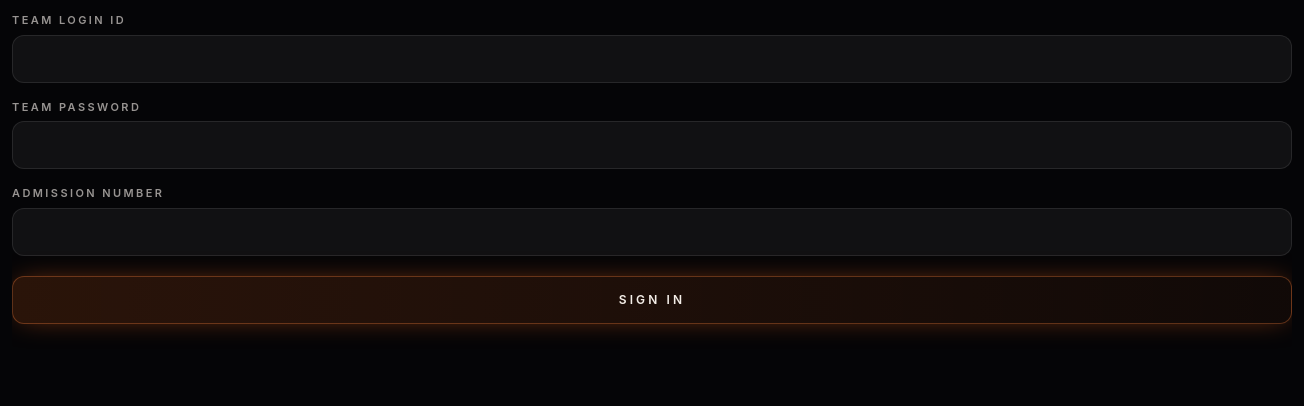
it: <LoginForm role='participant' /> › maps 429 RATE_LIMITED to a safe message
The image size is (1304, 406).
Type " team_a " into the field labelled "Team Login ID".
click(652, 58); type(" team_a ")  # box [12,34,1292,82]
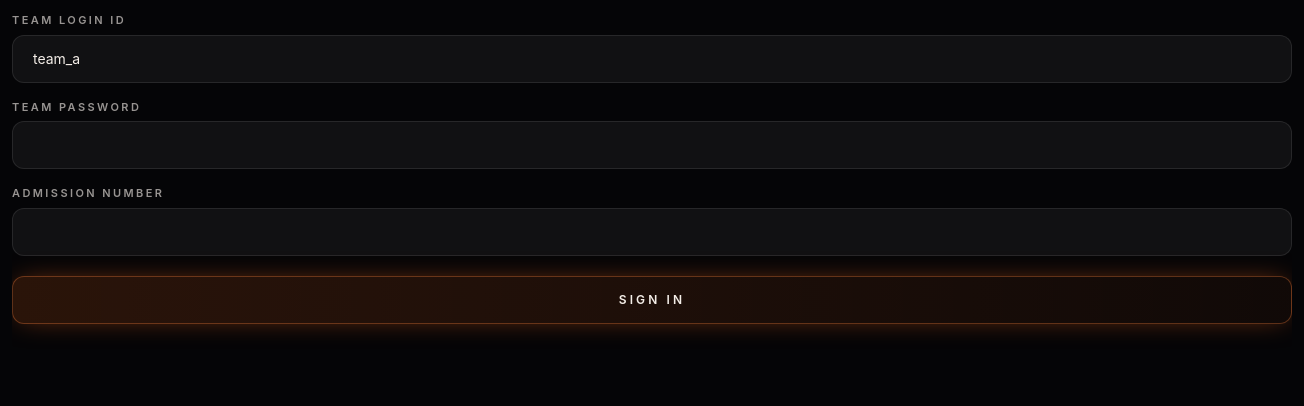
Type "pw-secret" into the password field labelled "Team Password".
click(652, 145); type("pw-secret")  # box [12,121,1292,169]
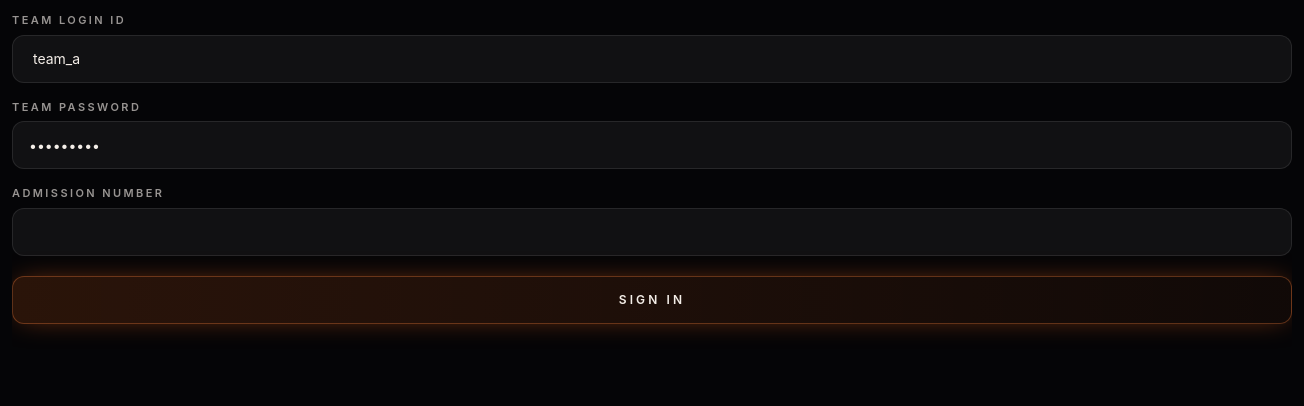
Type " 23je0001 " into the field labelled "Admission Number".
click(652, 232); type(" 23je0001 ")  # box [12,208,1292,256]
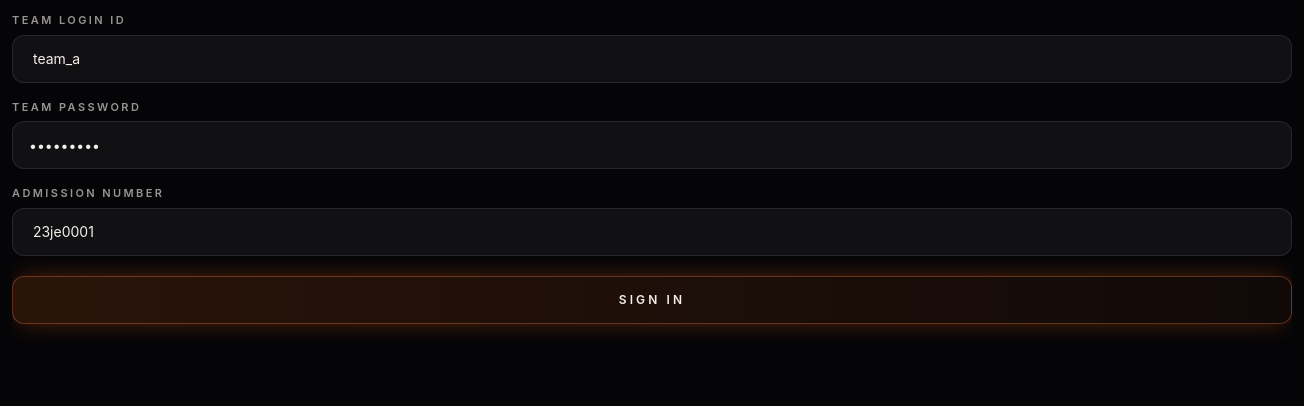
Click the button "Sign in".
click(652, 300)  # box [12,276,1292,324]
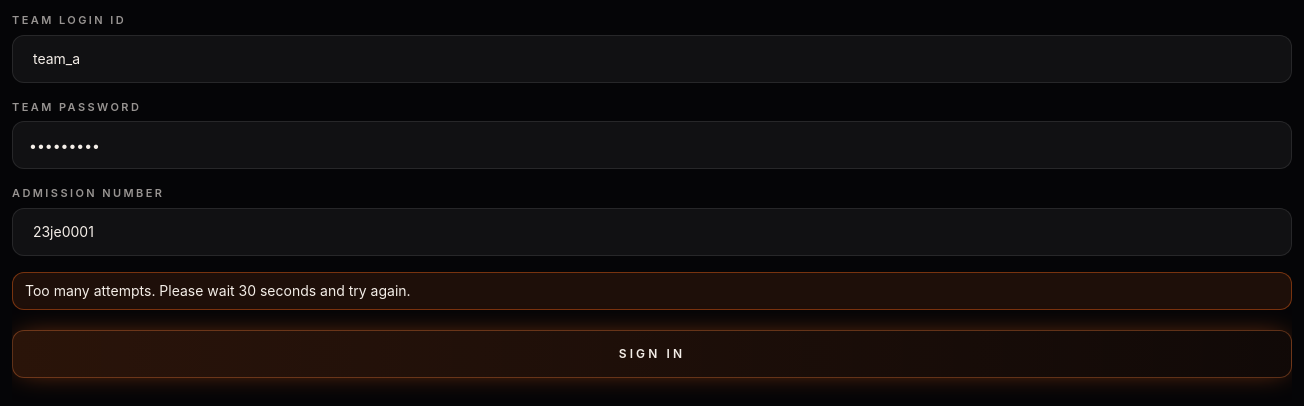
Check: the message shows "Too many attempts", box [25,282,411,298]
